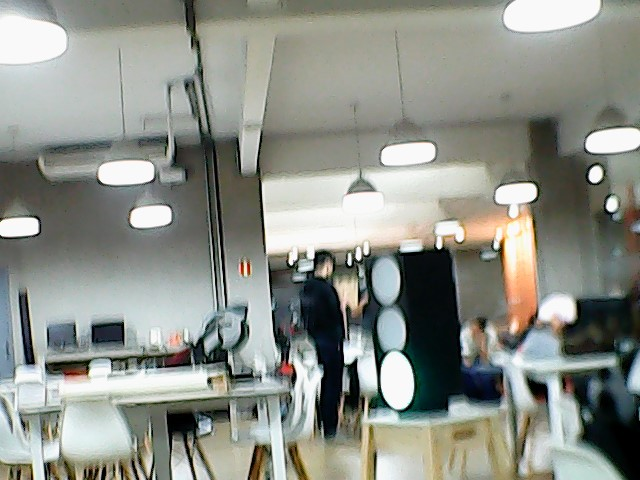verde: (351, 247, 474, 414)
